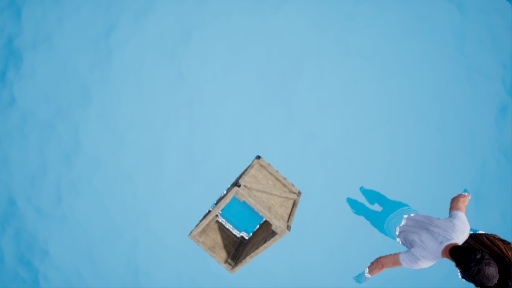person: (340, 188, 512, 286)
